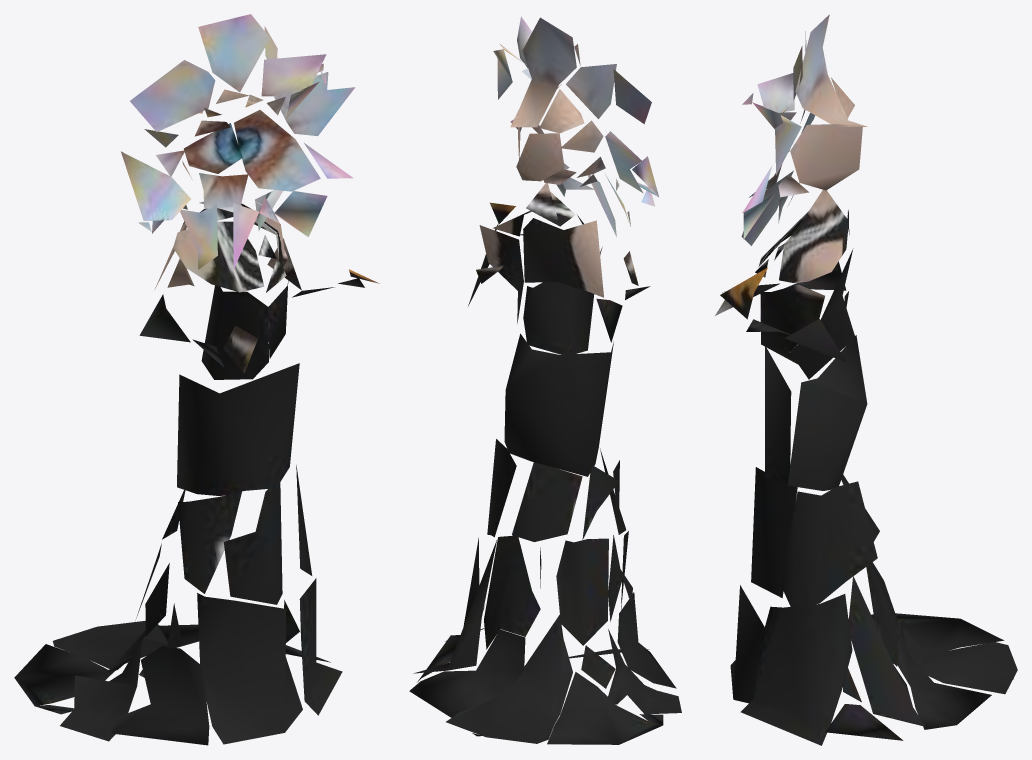
Rendered from crowd_gown_lite.glb.
3 renders of one model, left to right at view 1: azimuth 30°, elevation 25°; view 2: azimuth 150°, elevation 25°; view 3: azimuth 270°, elevation 25°, orthographic. The views are drawn at different scales.
Parts seen in each view (by area): view 1: tripo_node_620514dc-a435-4403-84fe-d3314a613aa5; view 2: tripo_node_620514dc-a435-4403-84fe-d3314a613aa5; view 3: tripo_node_620514dc-a435-4403-84fe-d3314a613aa5.
Boxes of the visible parts, x1=… form: tripo_node_620514dc-a435-4403-84fe-d3314a613aa5: x1=14, y1=14, x2=379, y2=745; tripo_node_620514dc-a435-4403-84fe-d3314a613aa5: x1=409, y1=16, x2=681, y2=744; tripo_node_620514dc-a435-4403-84fe-d3314a613aa5: x1=715, y1=14, x2=1017, y2=745.
Size of the model in its own units: 0.7644 by 1.85 by 0.7566.
Materials: 1 (1 with a texture image).
